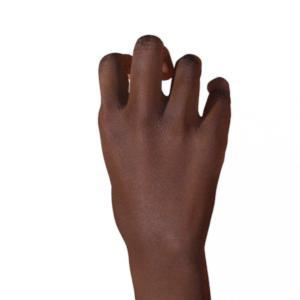rock: (98, 35, 230, 242)
